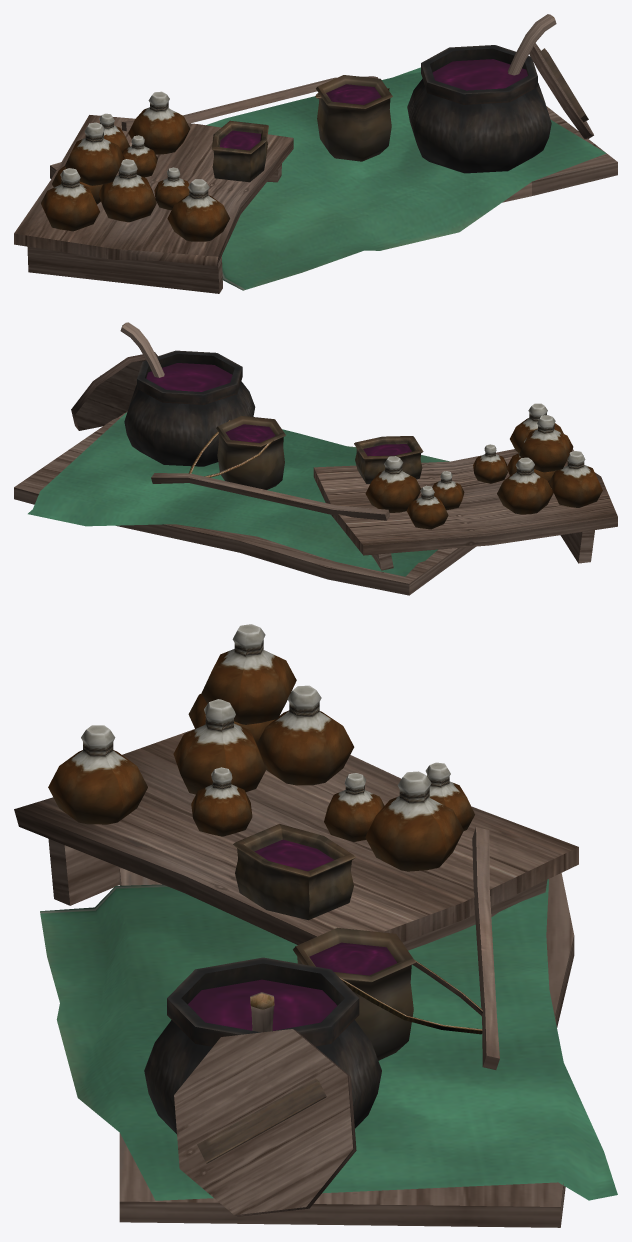
The model's file is handan_field_a_s01b.fbx.
3 renders of one model, top to bottom at view 1: azimuth 30°, elevation 25°; view 2: azimuth 150°, elevation 25°; view 3: azimuth 270°, elevation 25°, orthographic. The views are drawn at different scales.
Parts seen in each view (by area): view 1: handan_field_a_s01b; view 2: handan_field_a_s01b; view 3: handan_field_a_s01b.
Boxes of the visible parts, <box> form: handan_field_a_s01b: <box>14,14,617,293</box>; handan_field_a_s01b: <box>14,322,617,595</box>; handan_field_a_s01b: <box>14,624,617,1227</box>.
Size of the model in its own units: 527 by 124 by 298.
